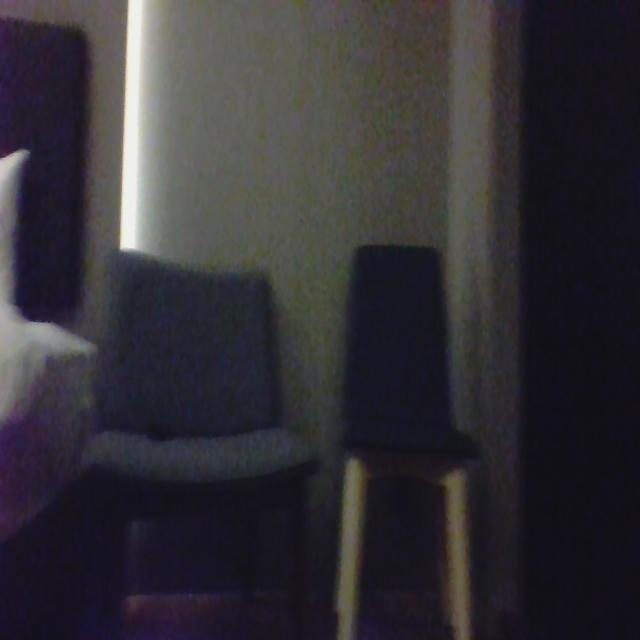empty: (88, 246, 303, 465), (336, 241, 459, 454)
